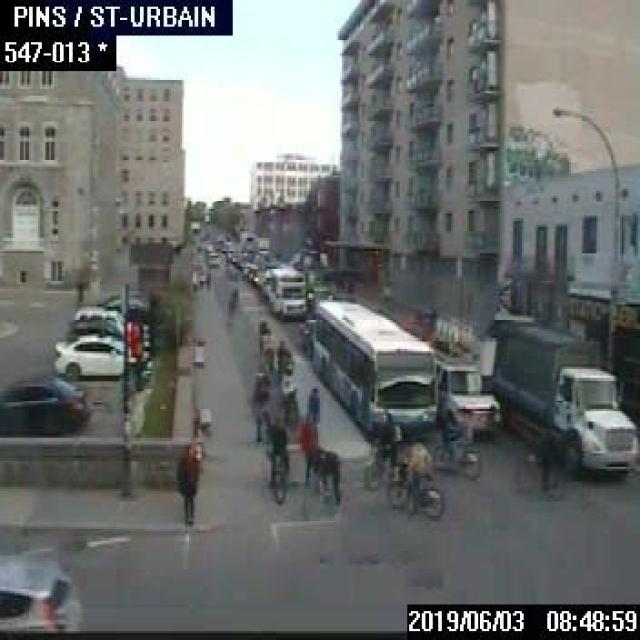bus: (312, 296, 436, 440)
cyclist: (386, 432, 444, 518), (430, 408, 482, 479), (362, 408, 406, 489), (262, 410, 288, 501)
pedestrian: (173, 442, 199, 522), (314, 444, 344, 506), (297, 410, 317, 484), (249, 376, 272, 440), (534, 420, 552, 489), (282, 387, 302, 448), (257, 345, 276, 393), (273, 336, 291, 386), (278, 352, 295, 396), (306, 384, 319, 431), (256, 317, 272, 352), (226, 294, 235, 323), (230, 283, 239, 312), (198, 268, 205, 290), (204, 268, 210, 291)
vehicle: (493, 318, 638, 477), (0, 549, 84, 633), (0, 372, 89, 434), (436, 360, 498, 432), (52, 332, 149, 376), (74, 303, 146, 333), (268, 266, 306, 318), (68, 317, 122, 342), (305, 283, 332, 305), (298, 315, 314, 351), (260, 266, 272, 297), (252, 267, 265, 284), (245, 266, 258, 280), (206, 251, 218, 265)
